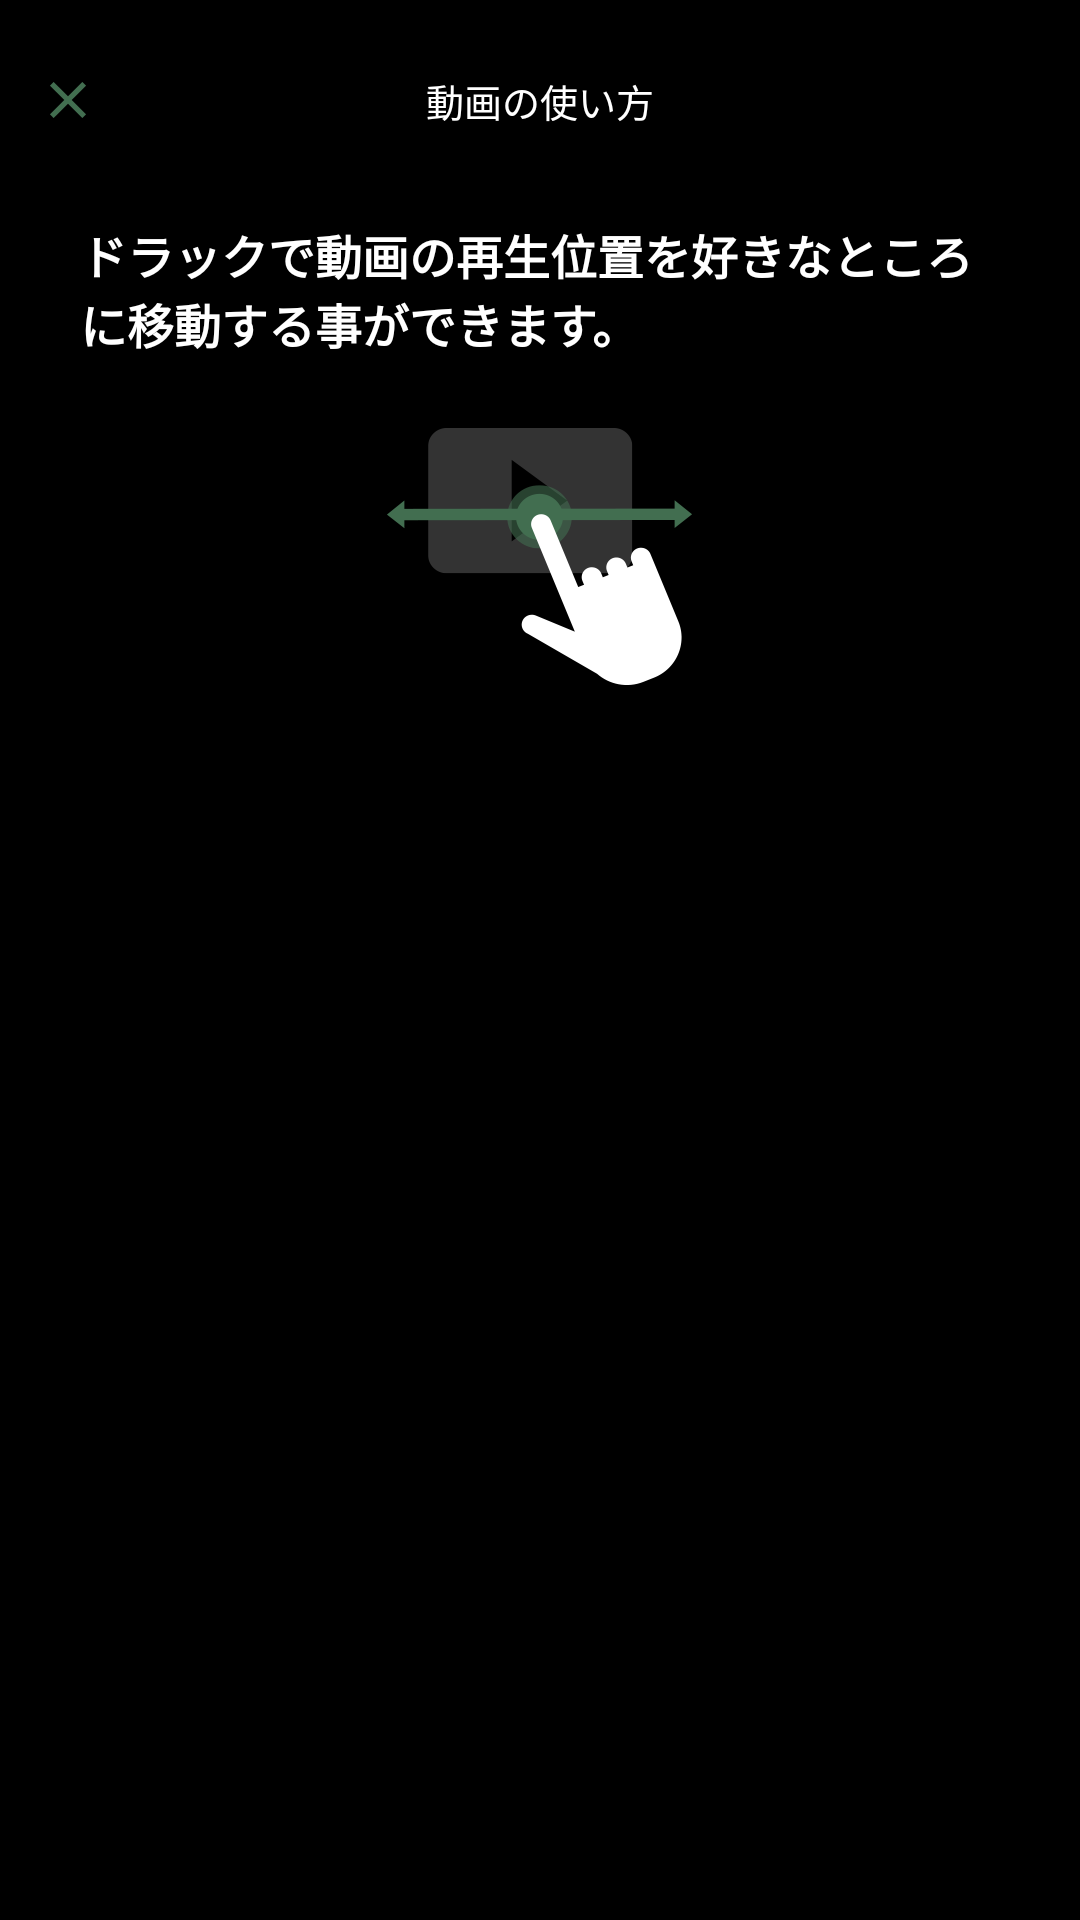

Point at icon controls on the screen. Image size 1080 × 1920, points as point (x, y).
close gr: point (68, 100)
